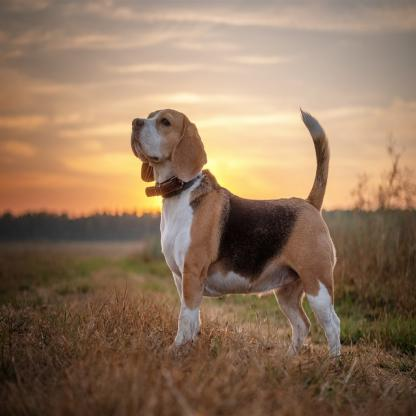Bigl: (124, 100, 355, 358)
